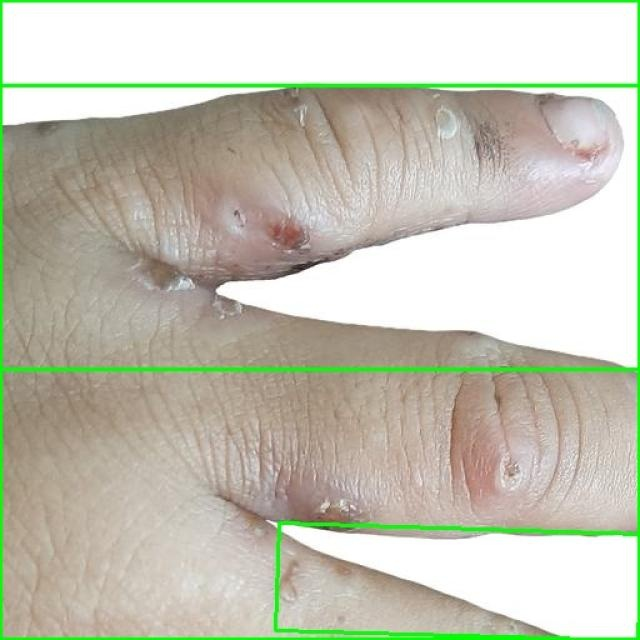Scabies: (0, 85, 639, 639), (0, 0, 639, 369), (276, 523, 640, 640)
